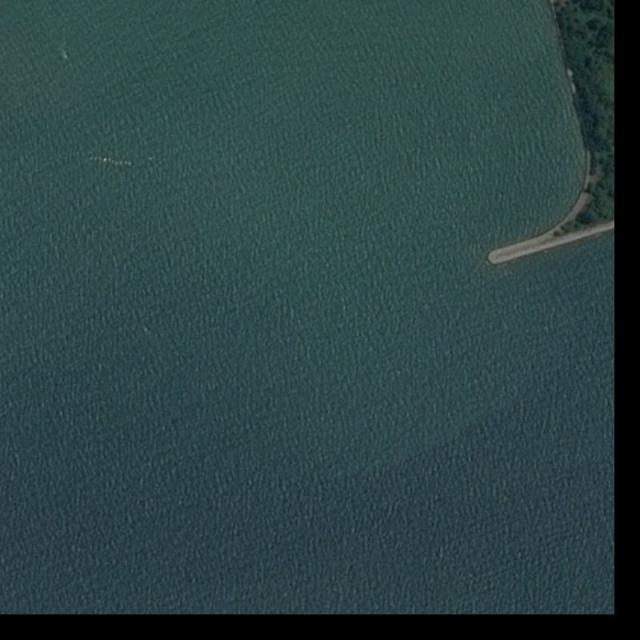ship: (64, 53, 69, 58)
